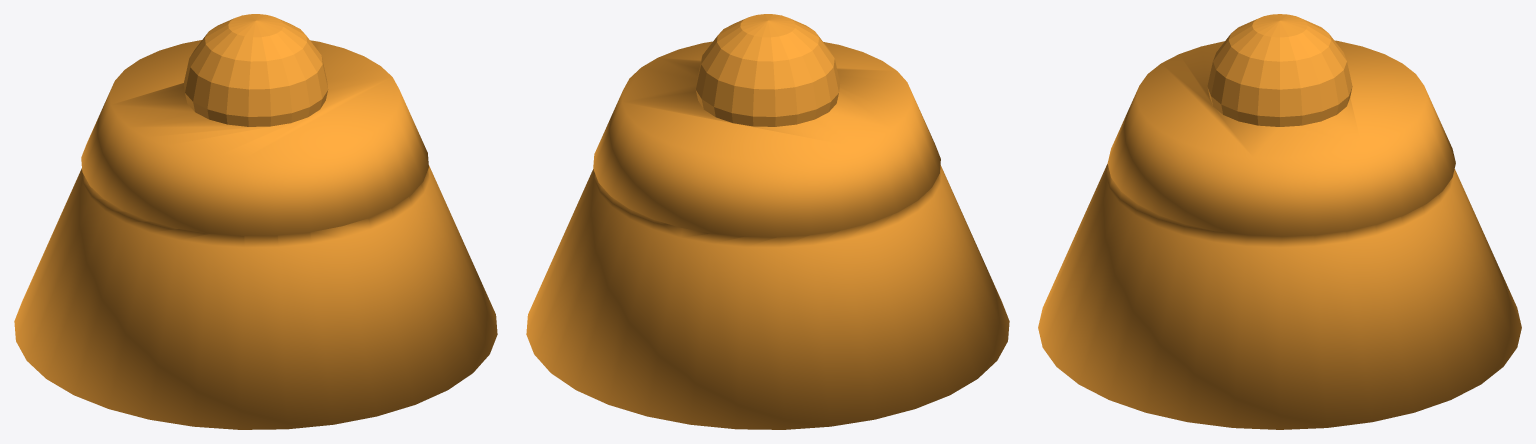
Rendered from flan.obj.
3 views of the same model, side by side, from view 1: azimuth 30°, elevation 25°; view 2: azimuth 150°, elevation 25°; view 3: azimuth 270°, elevation 25° (orthographic).
Parts seen in each view (by area): view 1: Cone; view 2: Cone; view 3: Cone.
Part boxes in pixels (box(x1,y1,x2,y2)): Cone: box(14, 14, 497, 429); Cone: box(526, 14, 1009, 429); Cone: box(1038, 14, 1521, 429).
Bounding box in the file's own units: 2 × 1.4 × 2.
